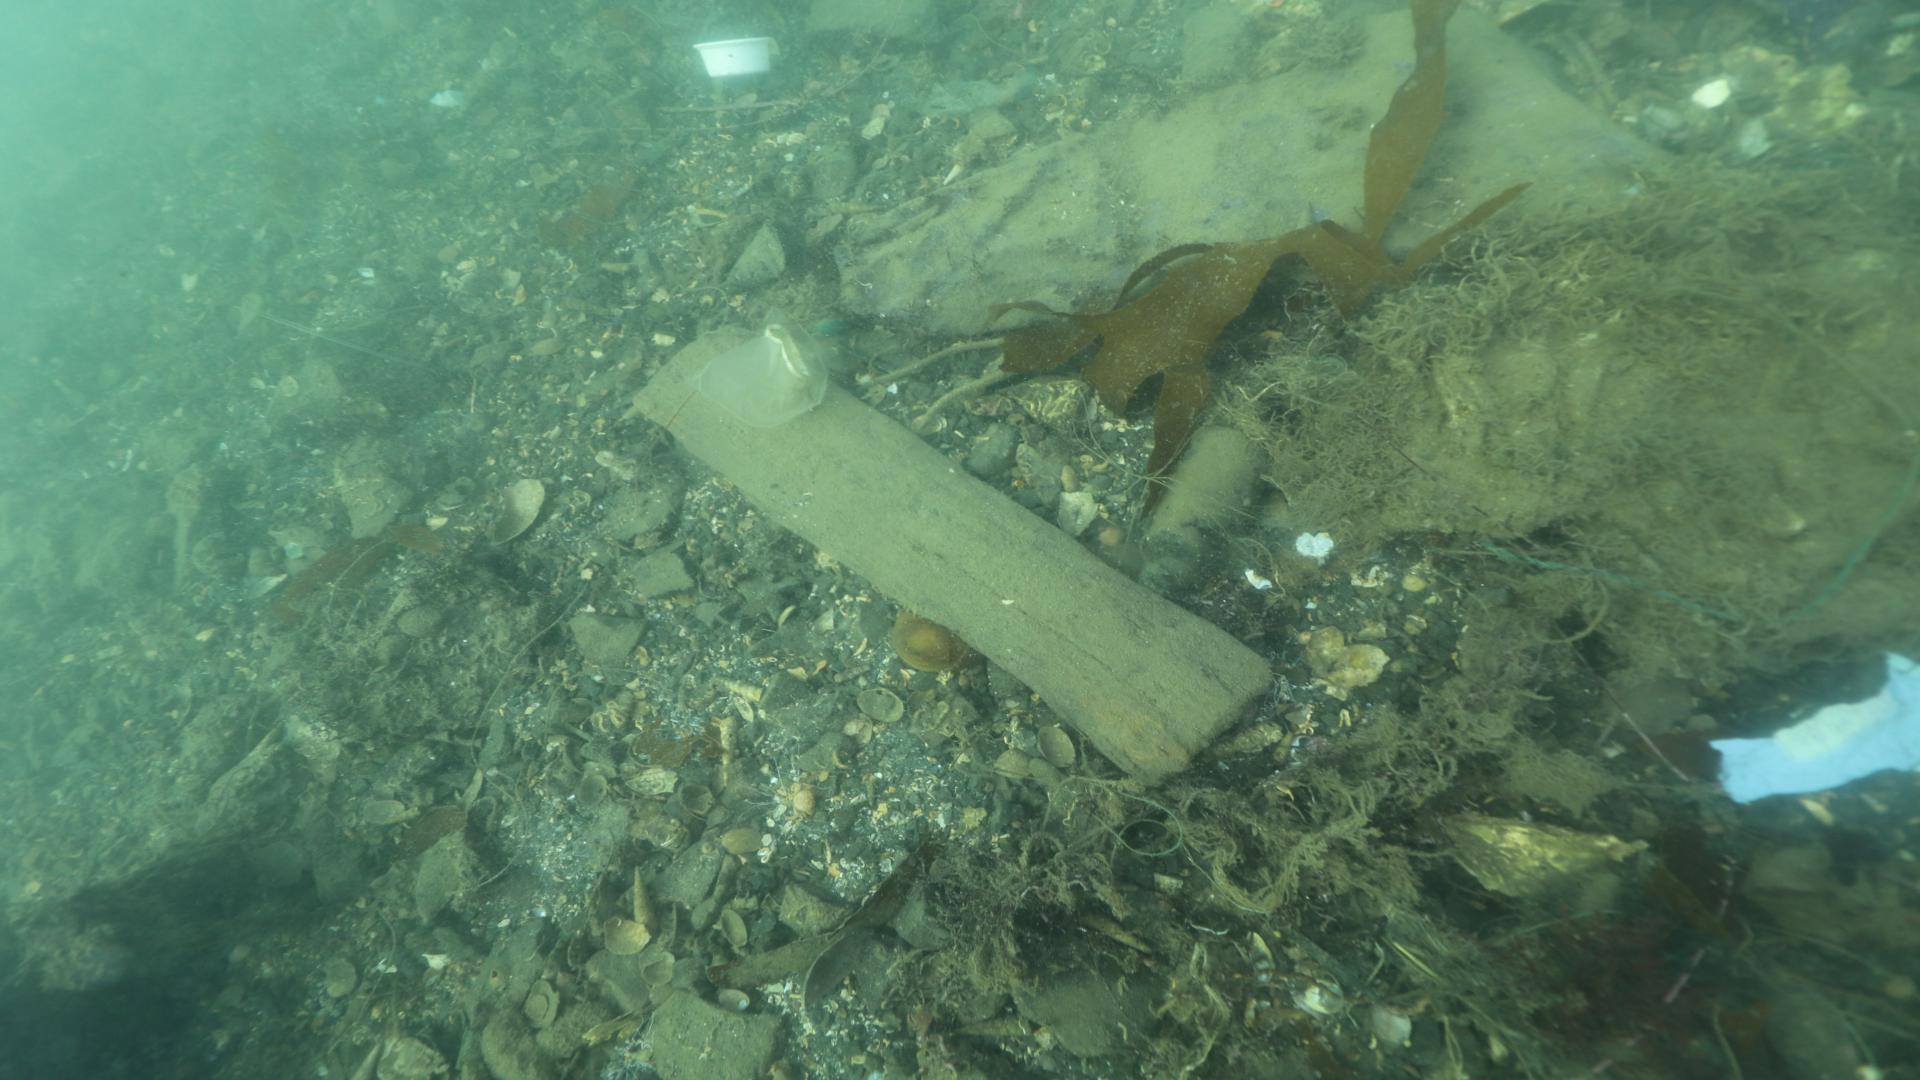wood: (630, 324, 1278, 789)
